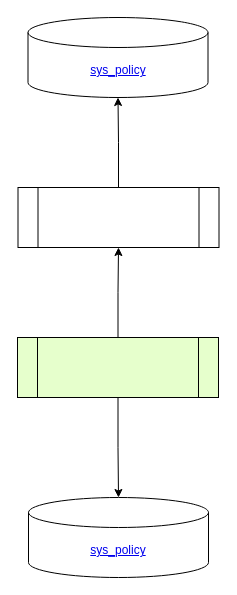
Image size: 237x595. Some labels were removed from this diagram. Each missing label, with the centre of its shape:
"sp_req_policy_direction" goes at [117,367].
"sp_req_policy_exists" goes at [118,217].
